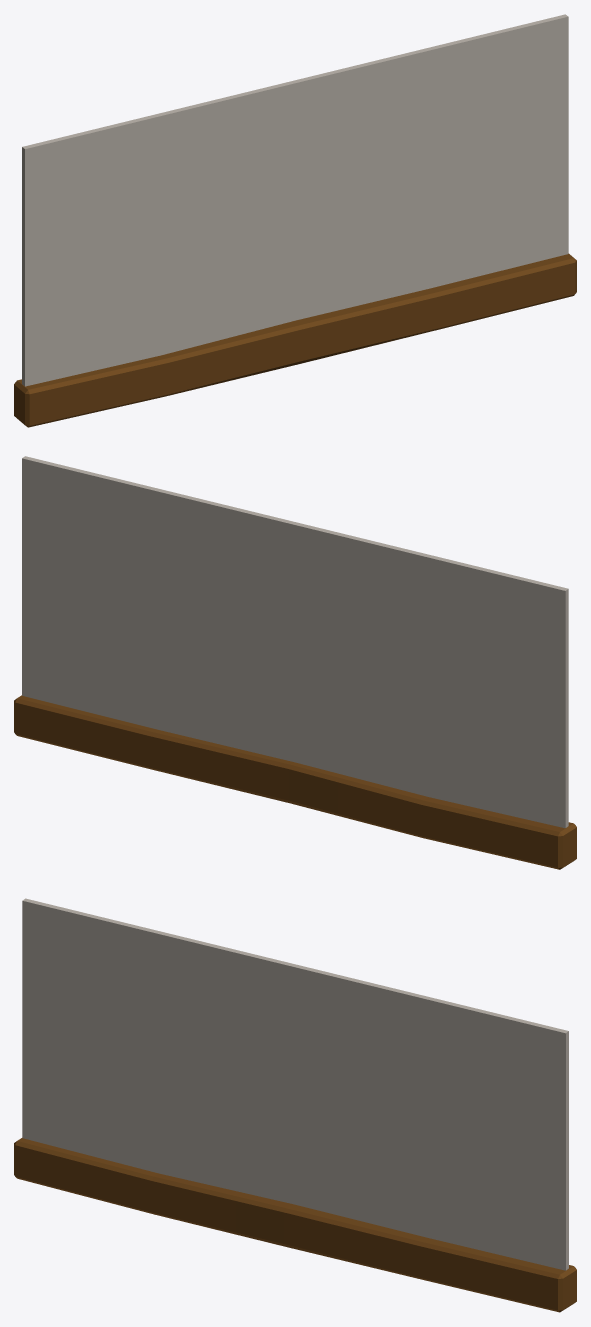
Rendered from Wall_11.fbx.
3 views of the same model, one above another, from view 1: azimuth 30°, elevation 25°; view 2: azimuth 150°, elevation 25°; view 3: azimuth 330°, elevation 25° (orthographic).
Visible parts, largest first — view 1: Wall_11; view 2: Wall_11; view 3: Wall_11.
Boxes of the visible parts, x1,y1,x2,y2 form: Wall_11: [14, 14, 576, 427]; Wall_11: [14, 456, 576, 869]; Wall_11: [14, 898, 576, 1312].
Size of the model in its own units: 584 by 280 by 32.29.
